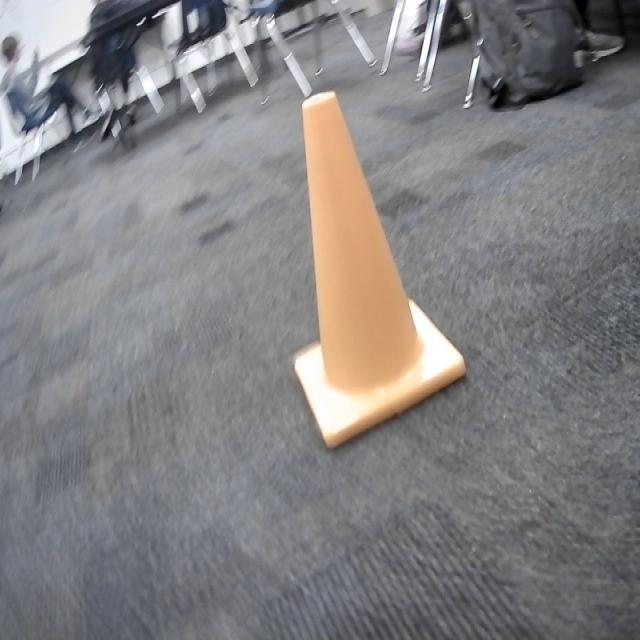cone: (285, 80, 469, 457)
